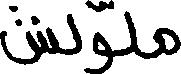X: (0, 1, 58, 69), (86, 0, 111, 73), (154, 23, 180, 62), (67, 9, 81, 59), (125, 6, 136, 59)
